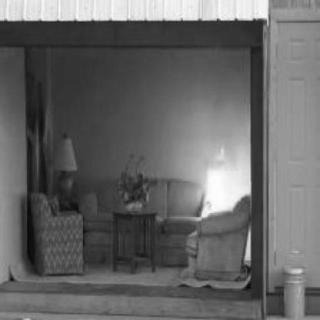Fire: (195, 148, 251, 224)
